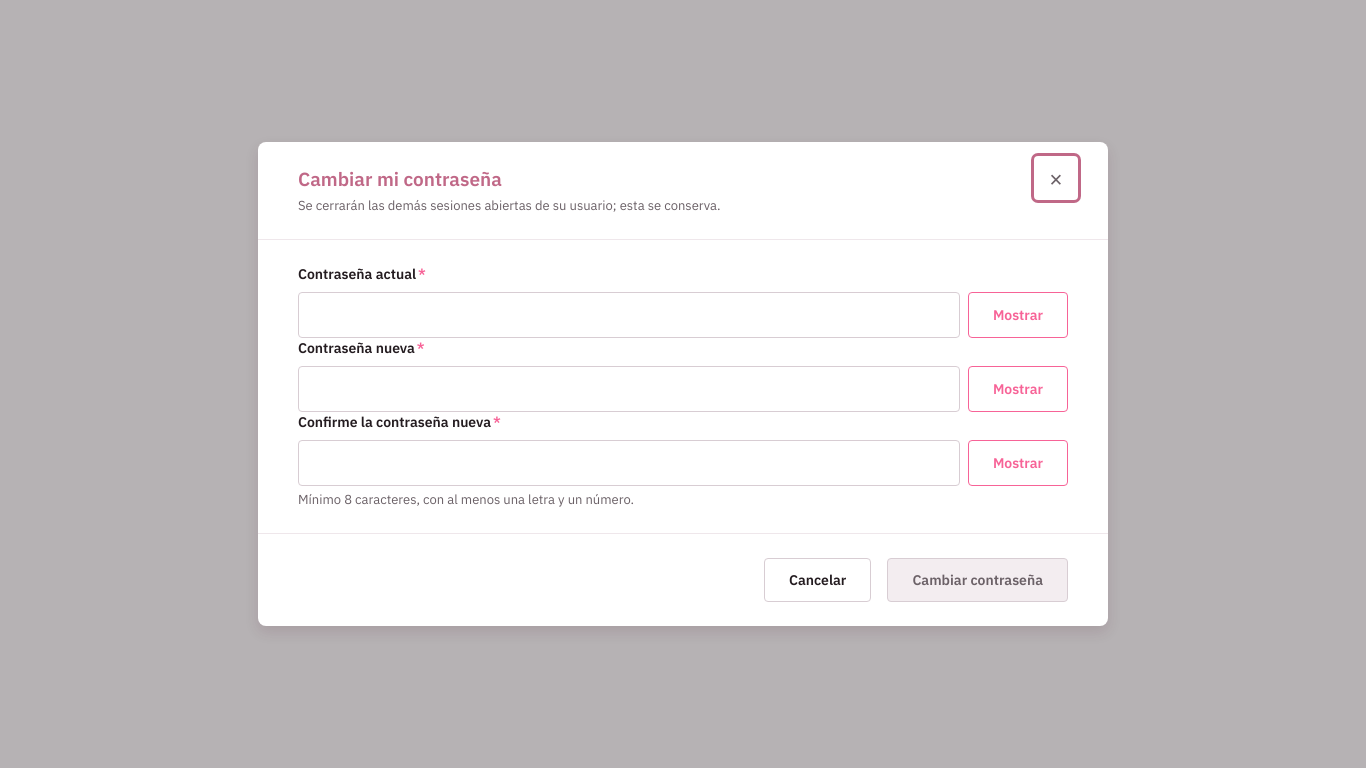
it: ModalCambiarPassword › bloqueado por el servidor (429) también deshabilita el envío
The width and height of the screenshot is (1366, 768).
Type "incorrecta1" into the password field labelled "Contraseña actual*" at (629, 315), box [298, 292, 960, 338]
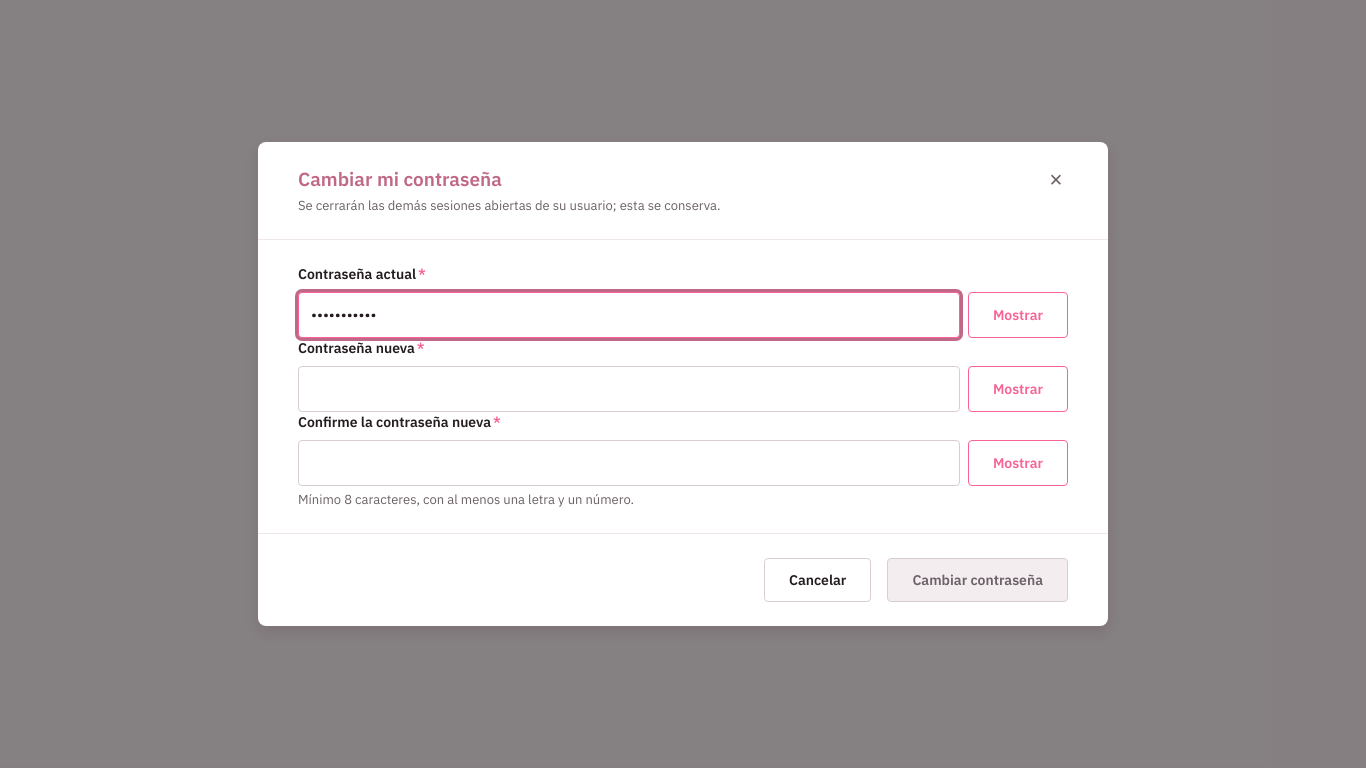
Type "NuevaClave123" into the password field labelled "Contraseña nueva*" at (629, 389), box [298, 366, 960, 412]
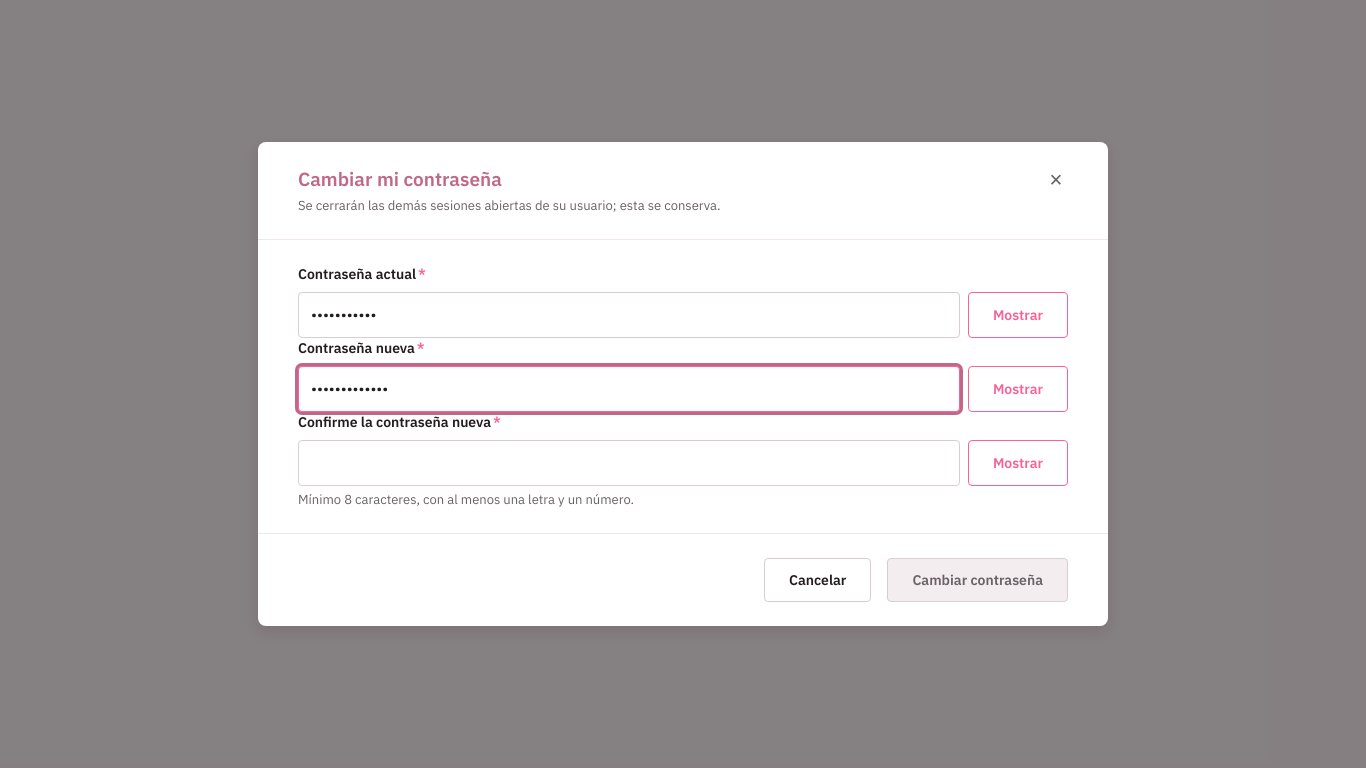
Type "NuevaClave123" into the password field labelled "Confirme la contraseña nueva*" at (629, 463), box [298, 440, 960, 486]
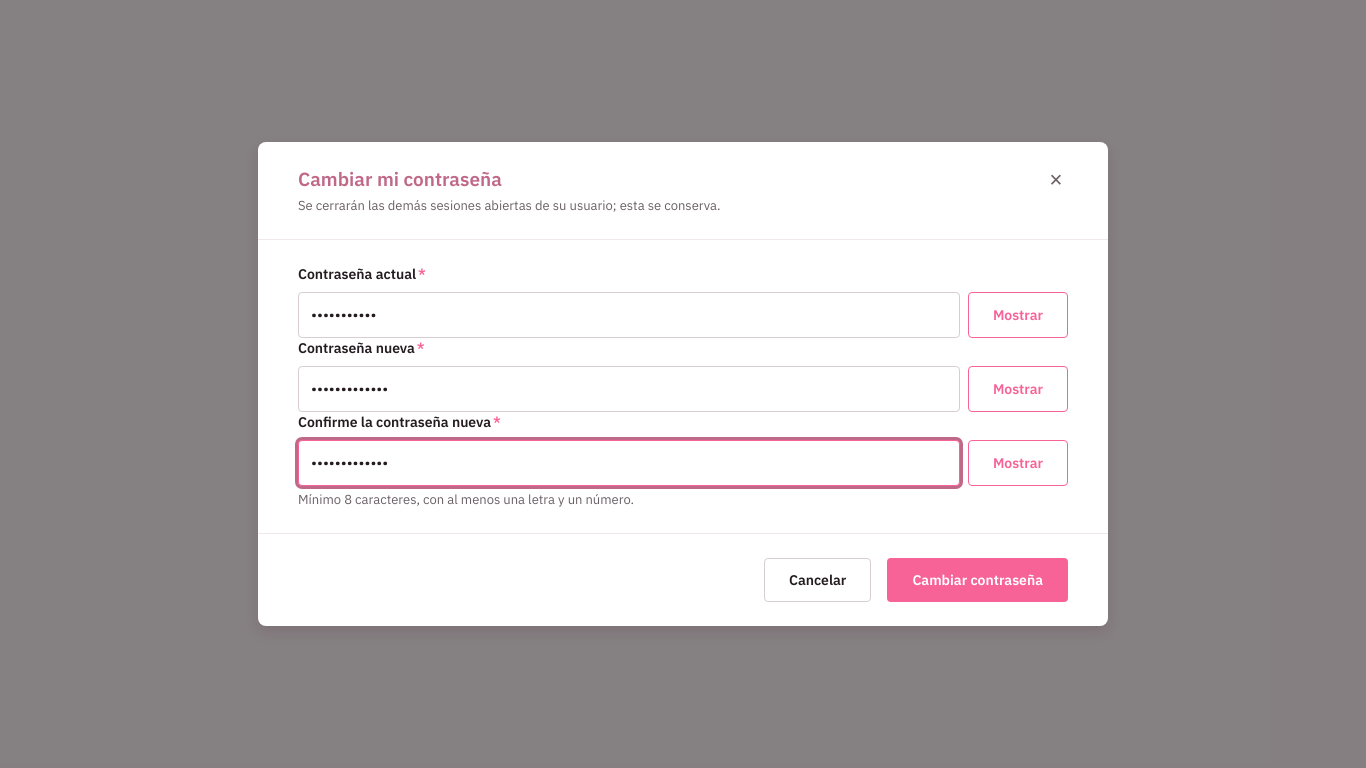
Click the button "Cambiar contraseña" at (978, 580), box [887, 558, 1068, 602]
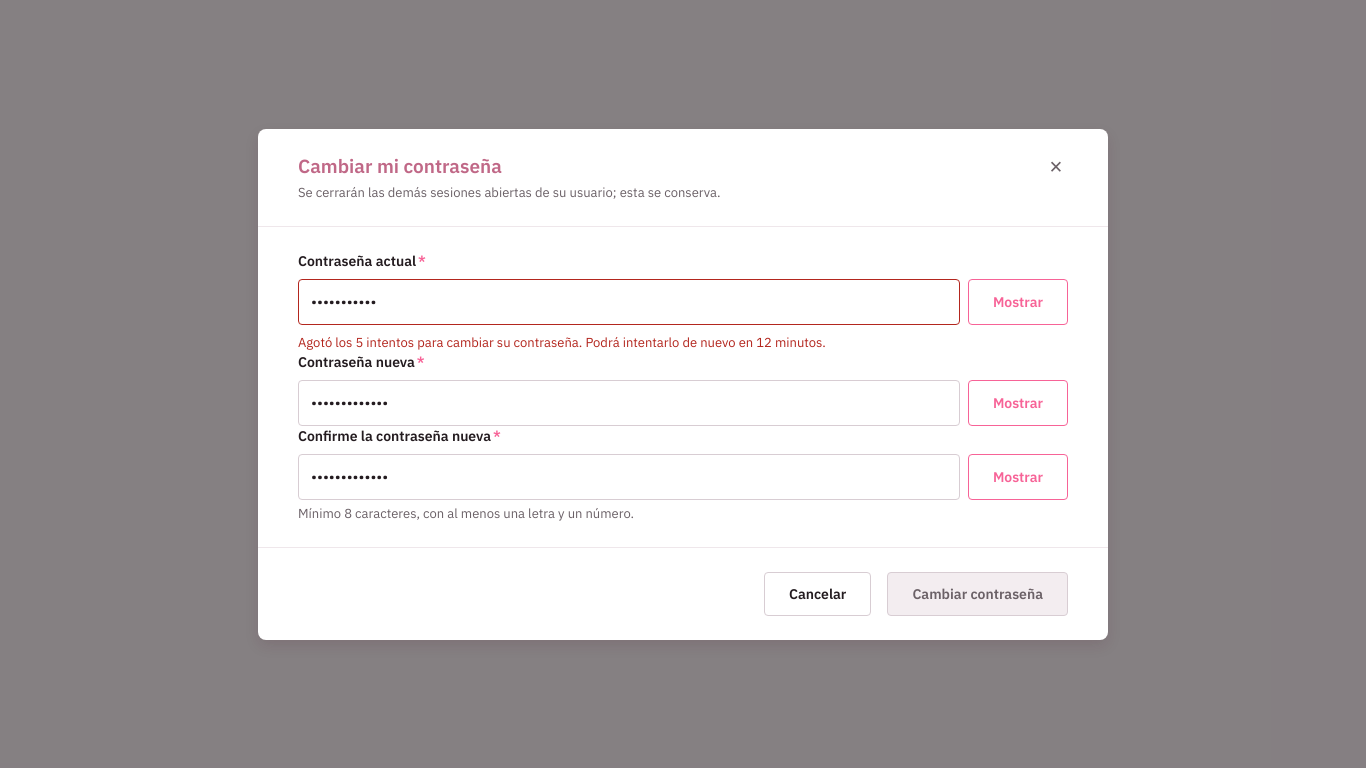
Expected: the text "de nuevo en 12 minutos" is shown, [298, 334, 826, 350]
Expected: the button "Cambiar contraseña" is disabled, [887, 572, 1068, 616]
